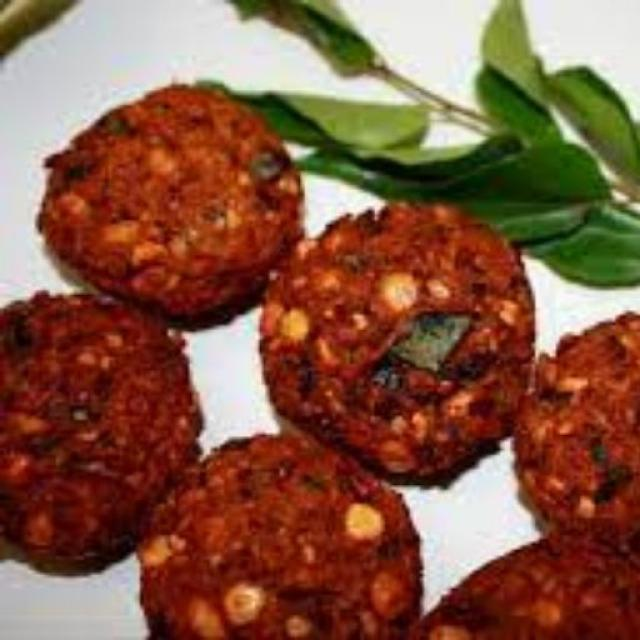dhal wade: (266, 223, 517, 447), (162, 455, 407, 637), (44, 88, 276, 279), (0, 321, 156, 539), (542, 309, 640, 542)
